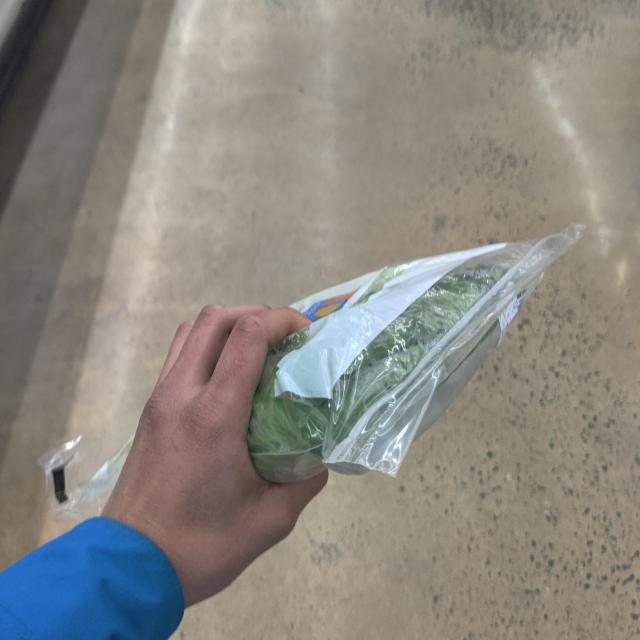Lettuce: (214, 239, 596, 497)
